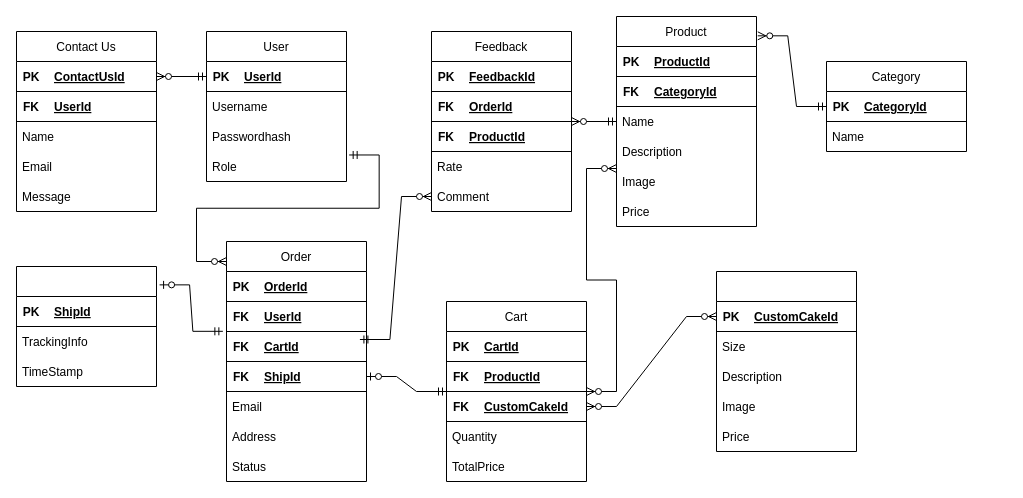
Some shapes in this 1023 by 498 pixel diagram are drawn without their labels. The box of each missing label's shape, as (x1, y1, x2, y2) in pixels:
CustomCakes: (716, 270, 856, 452)
Shipping: (16, 266, 156, 386)
